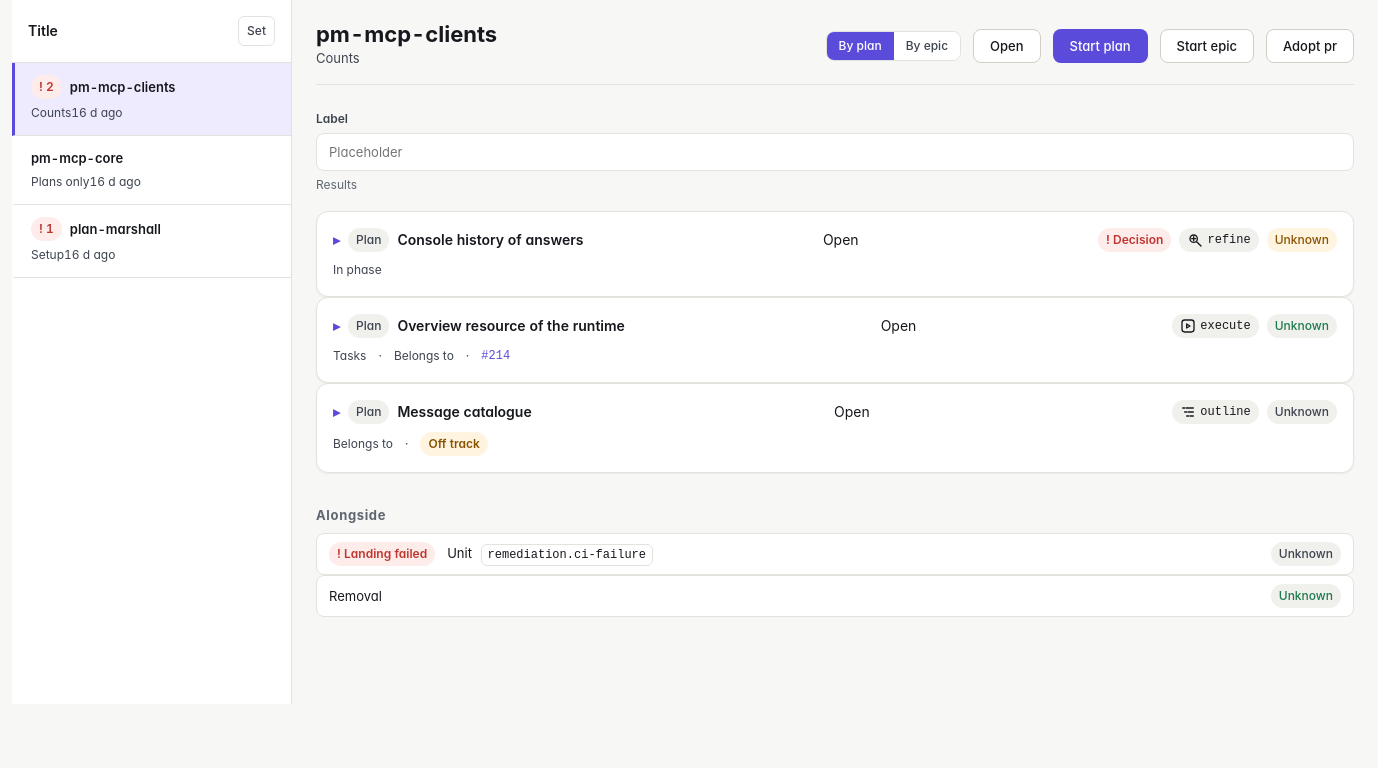
it: OverviewView component › filters the running plans while keeping the project tiles unfiltered
Type "Message catalogue" into the search field with test id "filter-input" at (835, 152), box x1=316 y1=133 x2=1354 y2=171
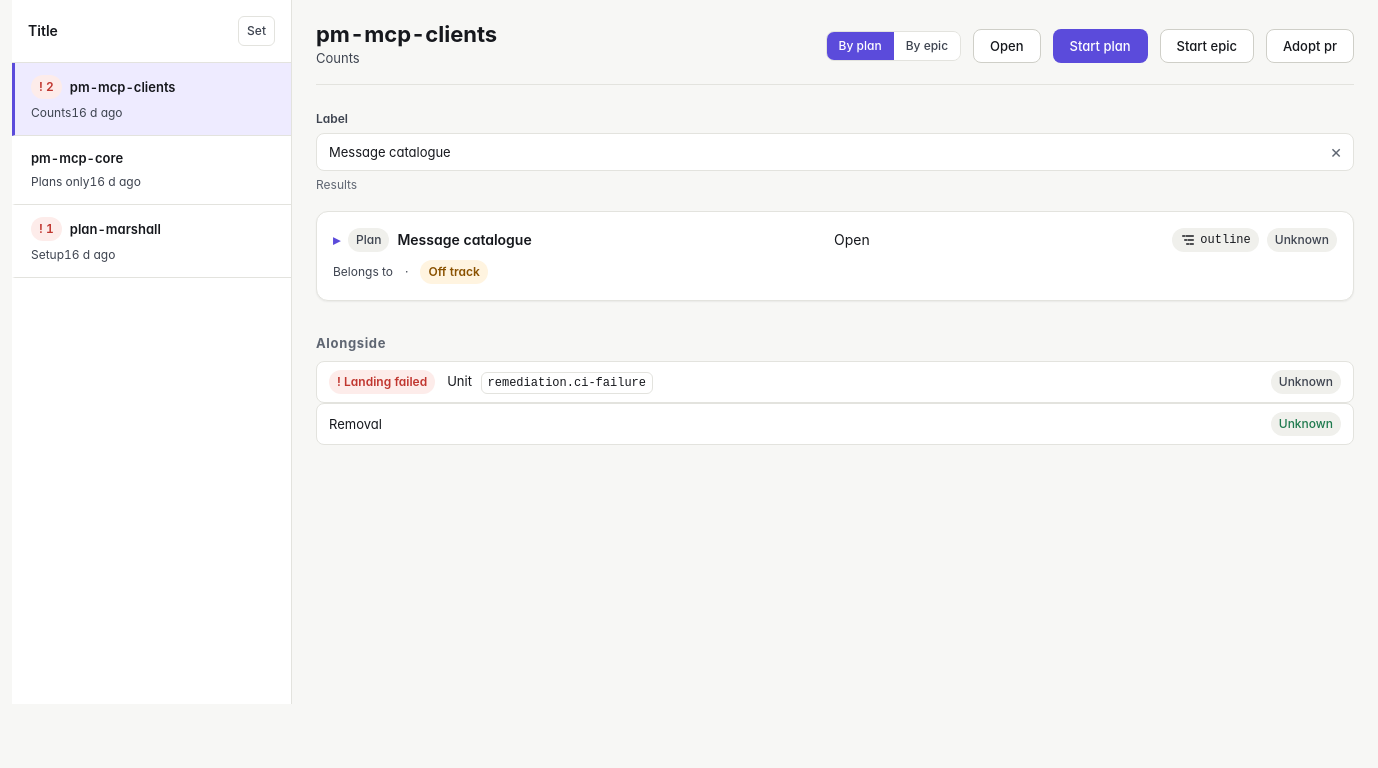
Expected: the tab "pm-mcp-core Plans only 16 d ago" is shown, x1=12 y1=136 x2=291 y2=205
Expected: the button "Message catalogue" is shown, x1=397 y1=230 x2=532 y2=250
Expected: the button "Console history of answers" is gone
